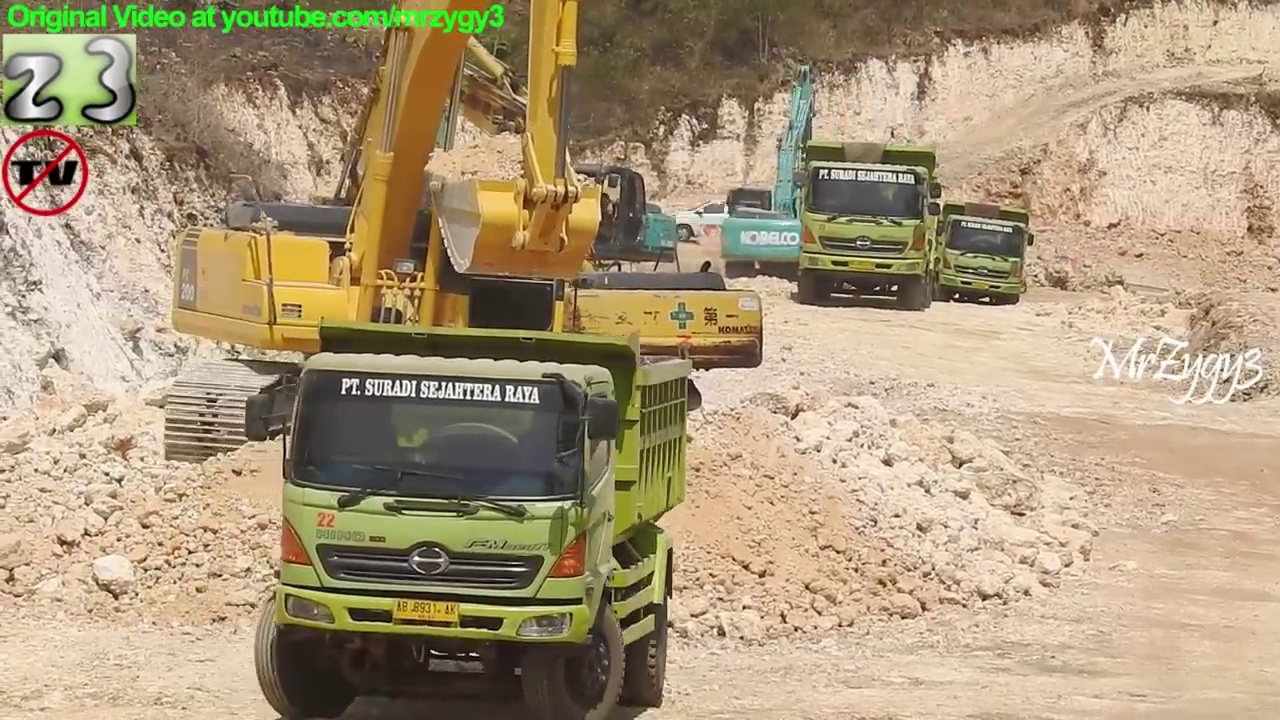excavator: (145, 1, 654, 482), (260, 1, 772, 433), (388, 1, 686, 300), (717, 58, 844, 286)
truck: (238, 313, 706, 720), (789, 133, 950, 319), (923, 195, 1040, 312)
